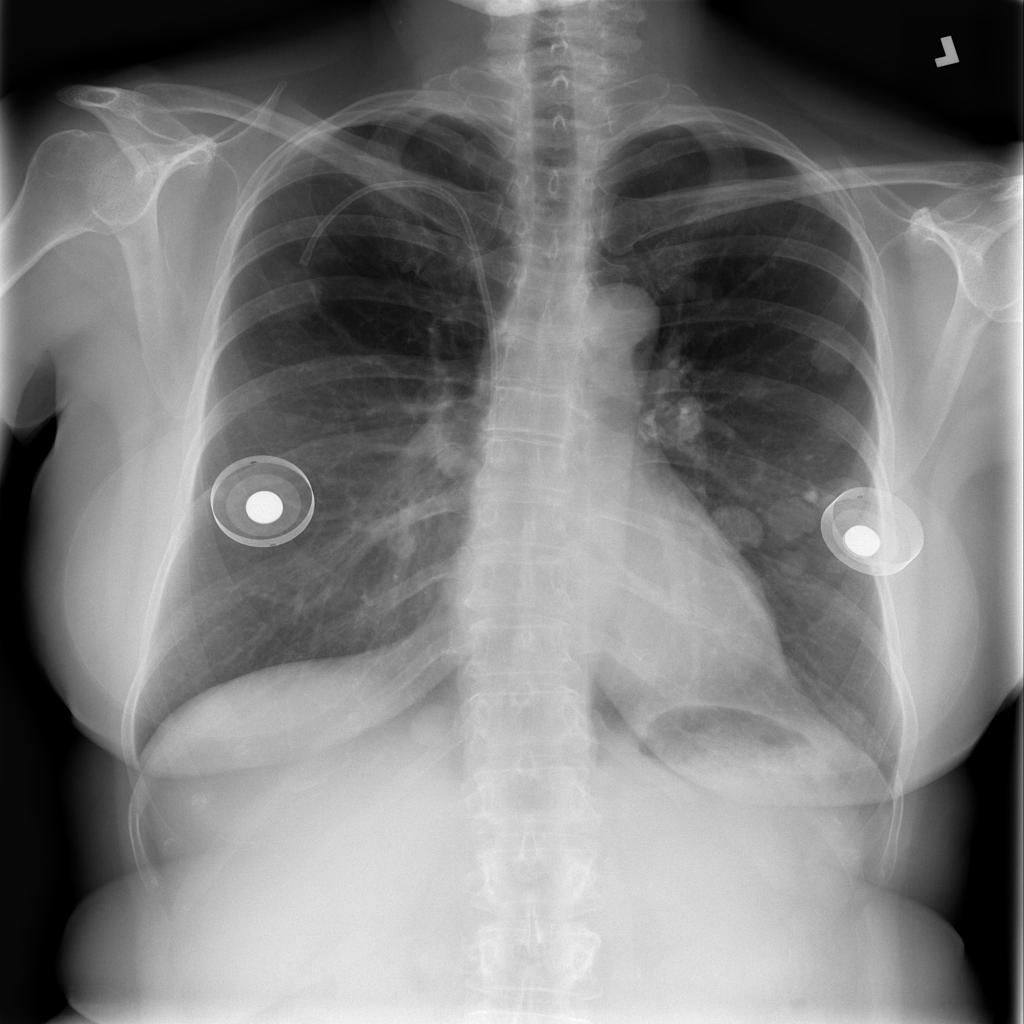nodule: (701, 499, 767, 562), (803, 323, 863, 388), (762, 489, 821, 543), (385, 527, 421, 566)
